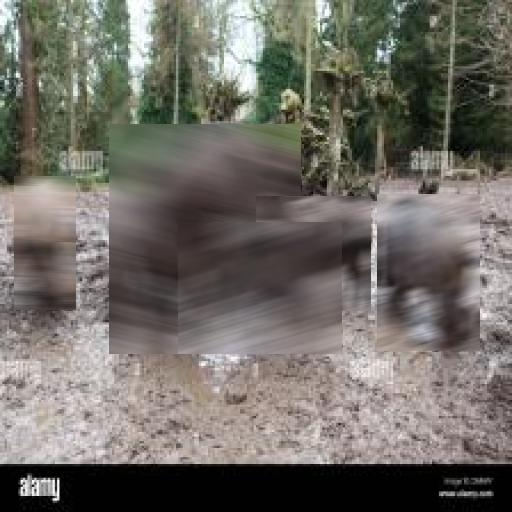Pig: (110, 124, 302, 354), (178, 222, 342, 354), (377, 194, 480, 351), (256, 196, 371, 311), (14, 176, 76, 310)
